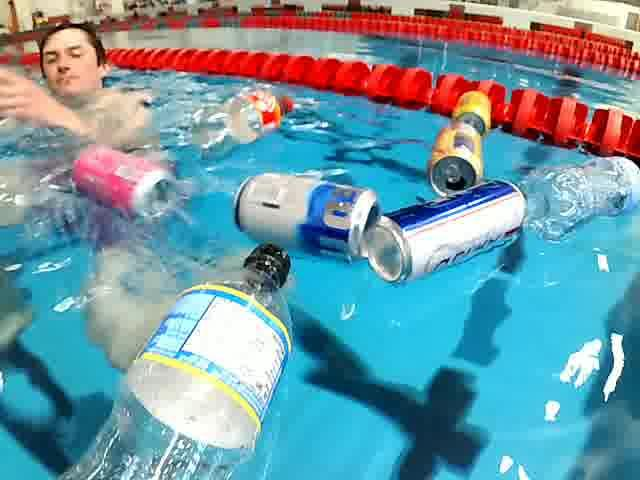Bottle: (44, 234, 303, 480), (516, 151, 640, 239), (183, 87, 299, 155)
Can: (366, 177, 530, 288), (231, 171, 386, 272), (63, 139, 188, 227), (424, 124, 486, 198), (451, 89, 495, 138)
